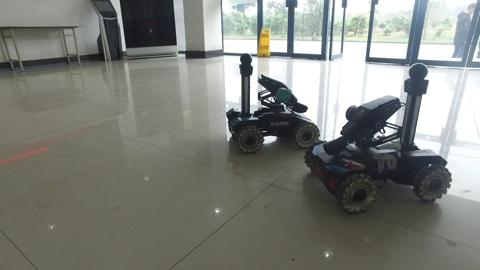chariot: (297, 61, 456, 218), (219, 53, 320, 152)
